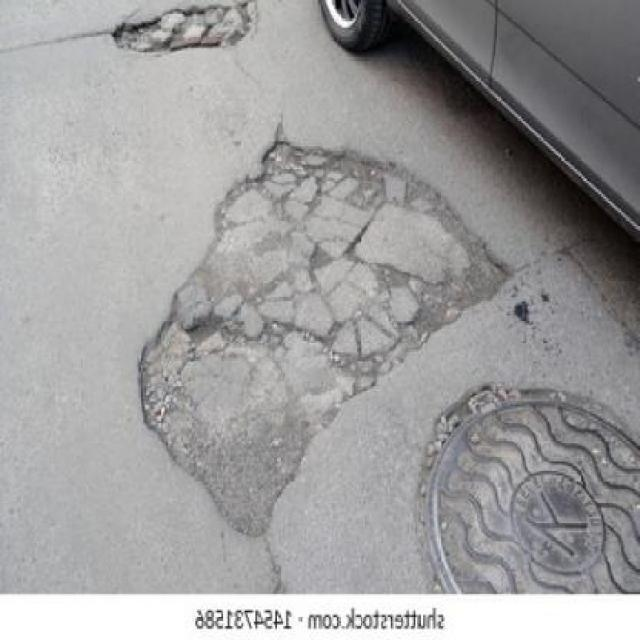Pothole: (133, 135, 518, 538), (106, 0, 253, 58)
